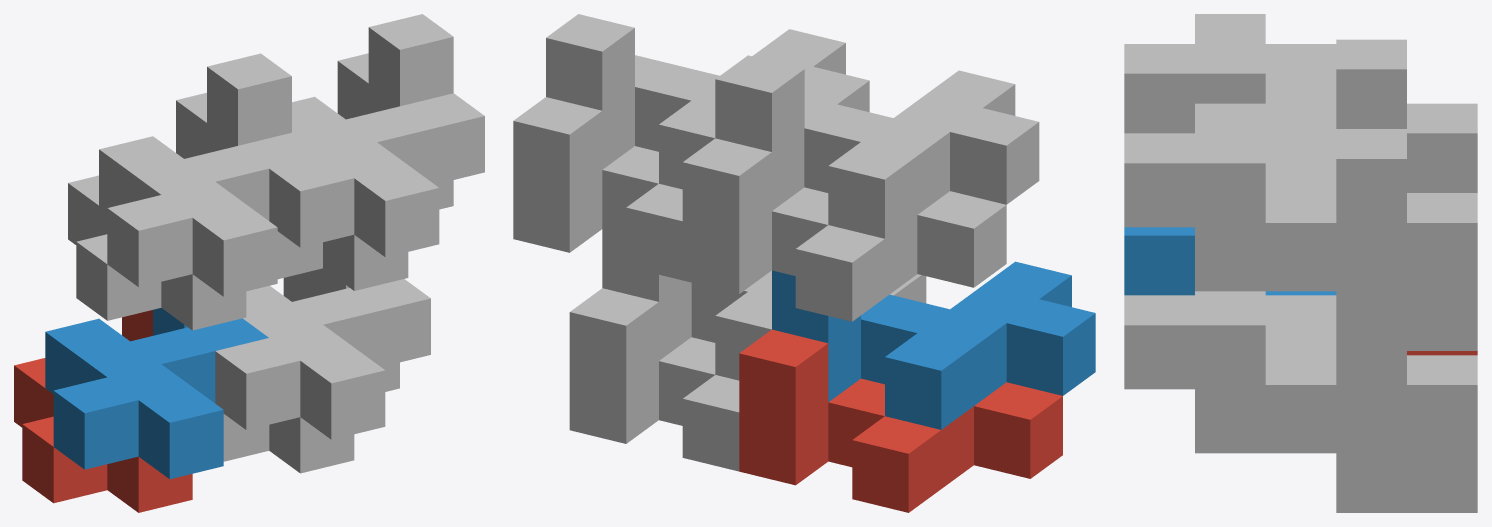
The model's file is tiling.obj.
The picture shows the model from 3 angles, left to right: view 1: azimuth 30°, elevation 25°; view 2: azimuth 150°, elevation 25°; view 3: azimuth 270°, elevation 25°; orthographic projection. The views are drawn at different scales.
Parts seen in each view (by area): view 1: copy_1_domain_8, copy_1_domain_4, copy_1_domain_6, copy_1_domain_2, copy_1_domain_3, copy_1_domain_1, copy_1_domain_7, copy_1_domain_5; view 2: copy_1_domain_4, copy_1_domain_3, copy_1_domain_1, copy_1_domain_2, copy_1_domain_8, copy_1_domain_5, copy_1_domain_7, copy_1_domain_6; view 3: copy_1_domain_8, copy_1_domain_6, copy_1_domain_4, copy_1_domain_5, copy_1_domain_7, copy_1_domain_3, copy_1_domain_2.
Part boxes in pixels (bbox=[...]): copy_1_domain_8: bbox=[269, 14, 484, 257]; copy_1_domain_4: bbox=[99, 53, 322, 296]; copy_1_domain_6: bbox=[215, 268, 430, 439]; copy_1_domain_2: bbox=[45, 308, 268, 479]; copy_1_domain_3: bbox=[68, 92, 246, 330]; copy_1_domain_1: bbox=[14, 310, 192, 512]; copy_1_domain_7: bbox=[277, 53, 453, 290]; copy_1_domain_5: bbox=[223, 270, 399, 473]; copy_1_domain_4: bbox=[715, 55, 1039, 238]; copy_1_domain_3: bbox=[682, 138, 1006, 321]; copy_1_domain_1: bbox=[739, 329, 1062, 512]; copy_1_domain_2: bbox=[772, 261, 1095, 429]; copy_1_domain_8: bbox=[546, 14, 869, 189]; copy_1_domain_5: bbox=[569, 288, 739, 471]; copy_1_domain_7: bbox=[513, 97, 682, 280]; copy_1_domain_6: bbox=[602, 229, 926, 380]; copy_1_domain_8: bbox=[1124, 103, 1406, 286]; copy_1_domain_6: bbox=[1124, 291, 1406, 448]; copy_1_domain_4: bbox=[1124, 14, 1406, 133]; copy_1_domain_5: bbox=[1195, 355, 1477, 512]; copy_1_domain_7: bbox=[1195, 193, 1477, 350]; copy_1_domain_3: bbox=[1407, 103, 1477, 192]; copy_1_domain_2: bbox=[1124, 227, 1336, 295].
Size of the model in its own units: 8 by 6 by 5.
